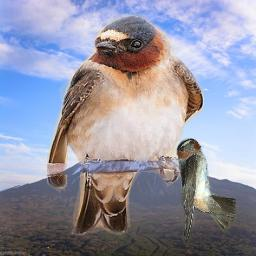Swallow: (47, 14, 204, 235), (176, 138, 236, 246)
